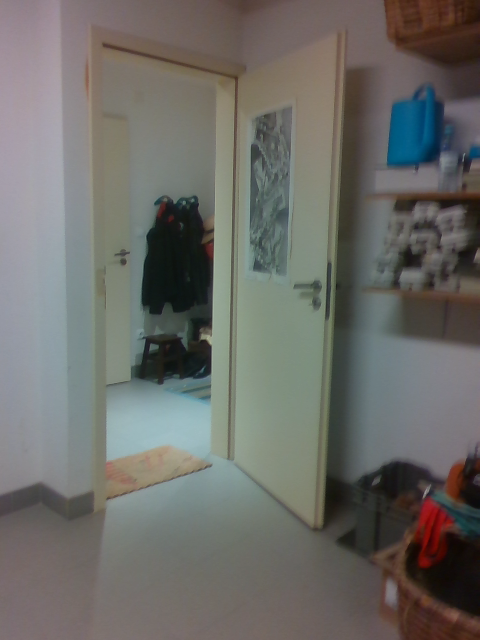open: (87, 23, 349, 531)
